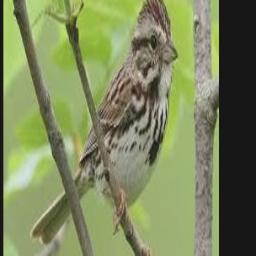Sparrow: (31, 0, 179, 256)
